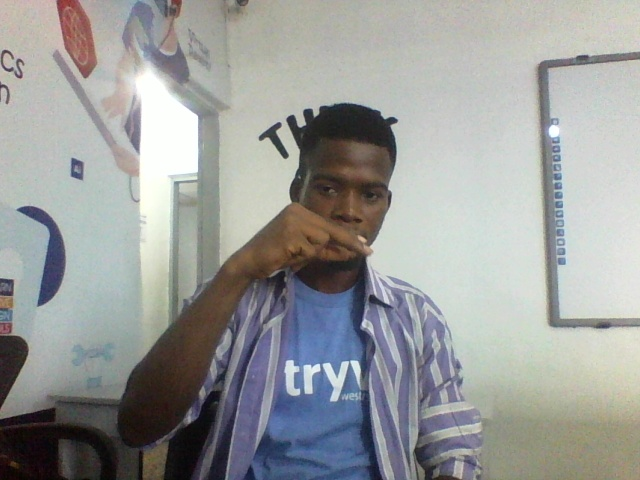no: (233, 200, 376, 287)
